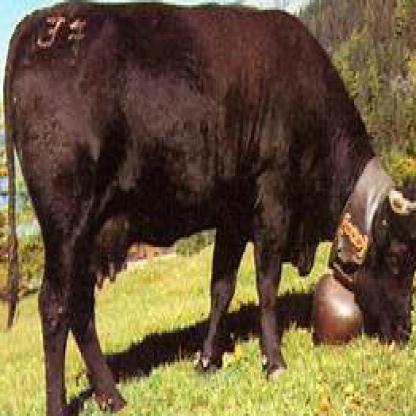cow: (3, 0, 414, 414)
